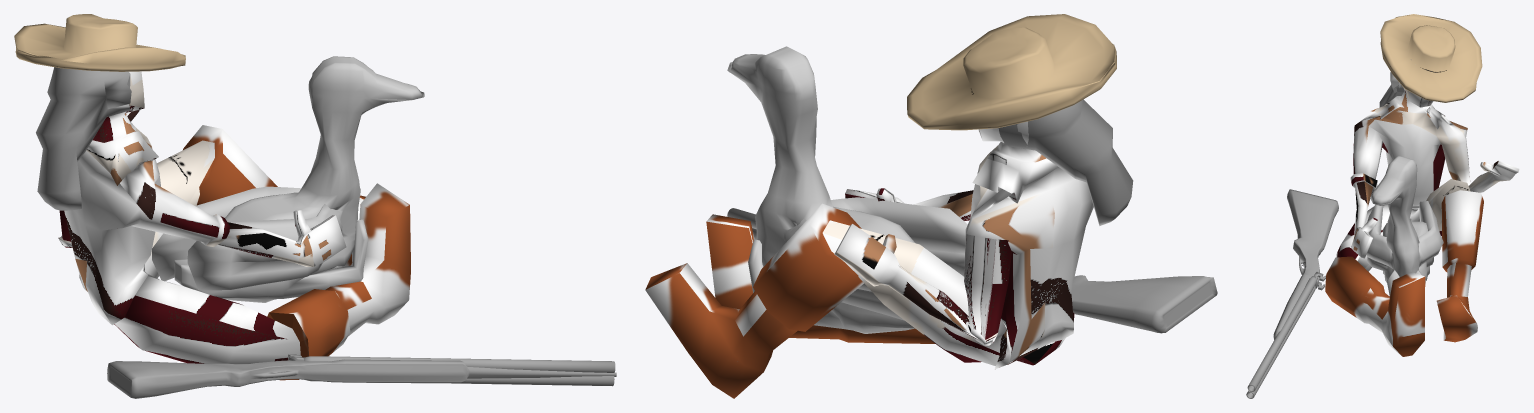
Rendered from Mariana_the_brigandBowing_7.obj.
The picture shows the model from 3 angles, left to right: view 1: azimuth 30°, elevation 25°; view 2: azimuth 150°, elevation 25°; view 3: azimuth 270°, elevation 25°; orthographic projection. The views are drawn at different scales.
Visible parts, largest first — view 1: Default_Body_Cube, Cube.005, SHOTGUN_Cube.007, Hair_Cube.004, Hat_Cylinder; view 2: Default_Body_Cube, Cube.005, Hat_Cylinder, Hair_Cube.004, SHOTGUN_Cube.007; view 3: Default_Body_Cube, Hat_Cylinder, Cube.005, SHOTGUN_Cube.007, Hair_Cube.004.
Part boxes in pixels (box(x1,y1,x2,y2)): Default_Body_Cube: box(58, 71, 410, 380); Cube.005: box(152, 56, 424, 302); SHOTGUN_Cube.007: box(107, 354, 616, 398); Hair_Cube.004: box(36, 67, 131, 210); Hat_Cylinder: box(14, 14, 185, 71); Default_Body_Cube: box(645, 121, 1093, 398); Cube.005: box(727, 46, 967, 333); Hat_Cylinder: box(907, 14, 1116, 130); Hair_Cube.004: box(998, 99, 1133, 225); SHOTGUN_Cube.007: box(727, 208, 1217, 333); Default_Body_Cube: box(1325, 71, 1519, 356); Hat_Cylinder: box(1380, 14, 1482, 102); Cube.005: box(1366, 156, 1443, 296); SHOTGUN_Cube.007: box(1246, 189, 1338, 398); Hair_Cube.004: box(1379, 59, 1411, 107).
Bounding box in the file's own units: 6.86 × 5.15 × 5.24.
